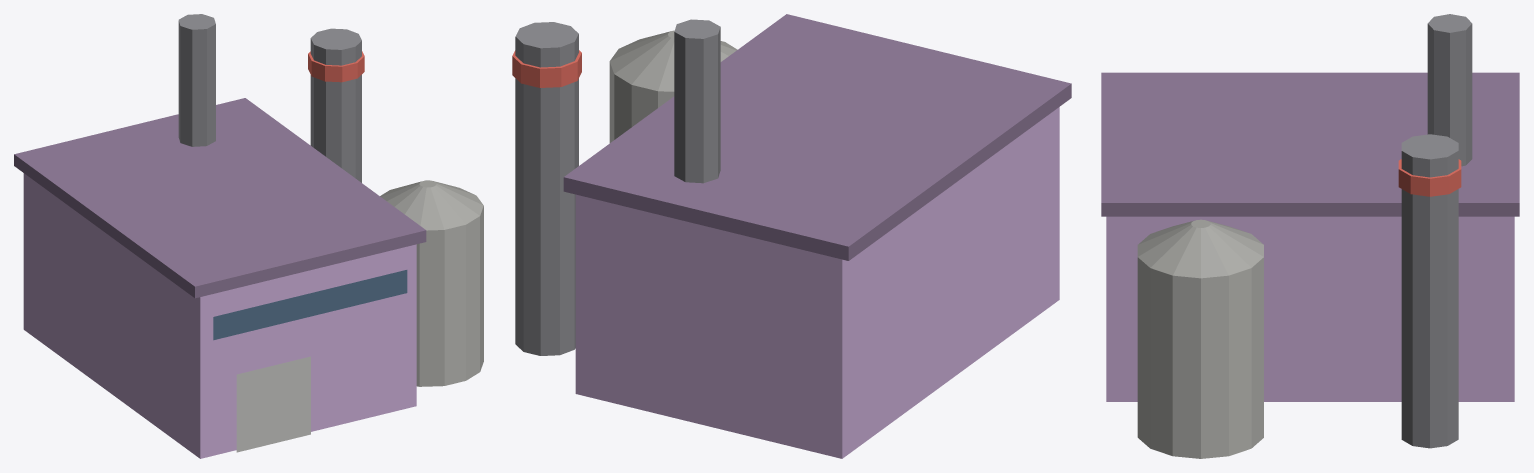
File: industrial_works.glb
3 renders of one model, left to right at view 1: azimuth 30°, elevation 25°; view 2: azimuth 150°, elevation 25°; view 3: azimuth 270°, elevation 25°, orthographic. The views are drawn at different scales.
Visible parts, largest first — view 1: industrial_works; view 2: industrial_works; view 3: industrial_works.
Boxes of the visible parts, box(x1,y1,x2,y2) form: industrial_works: box(14, 14, 483, 458); industrial_works: box(512, 14, 1071, 458); industrial_works: box(1101, 14, 1519, 458).
Size of the model in its own units: 0.87 by 0.75 by 0.842.
